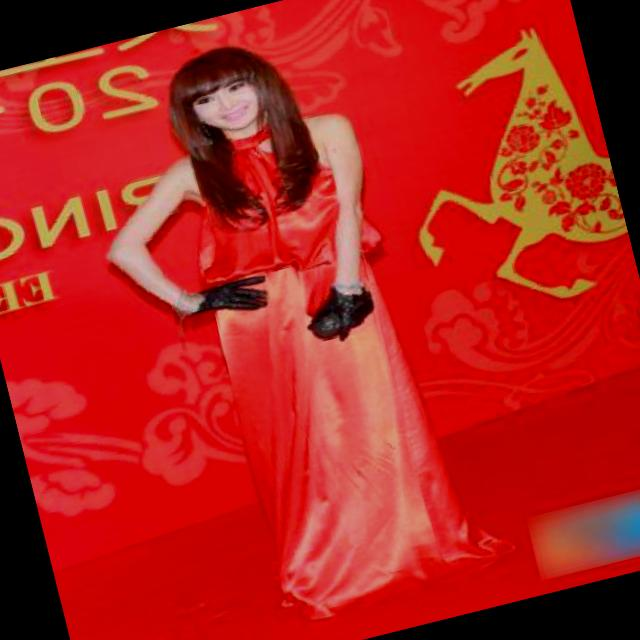Person: (66, 0, 493, 638)
